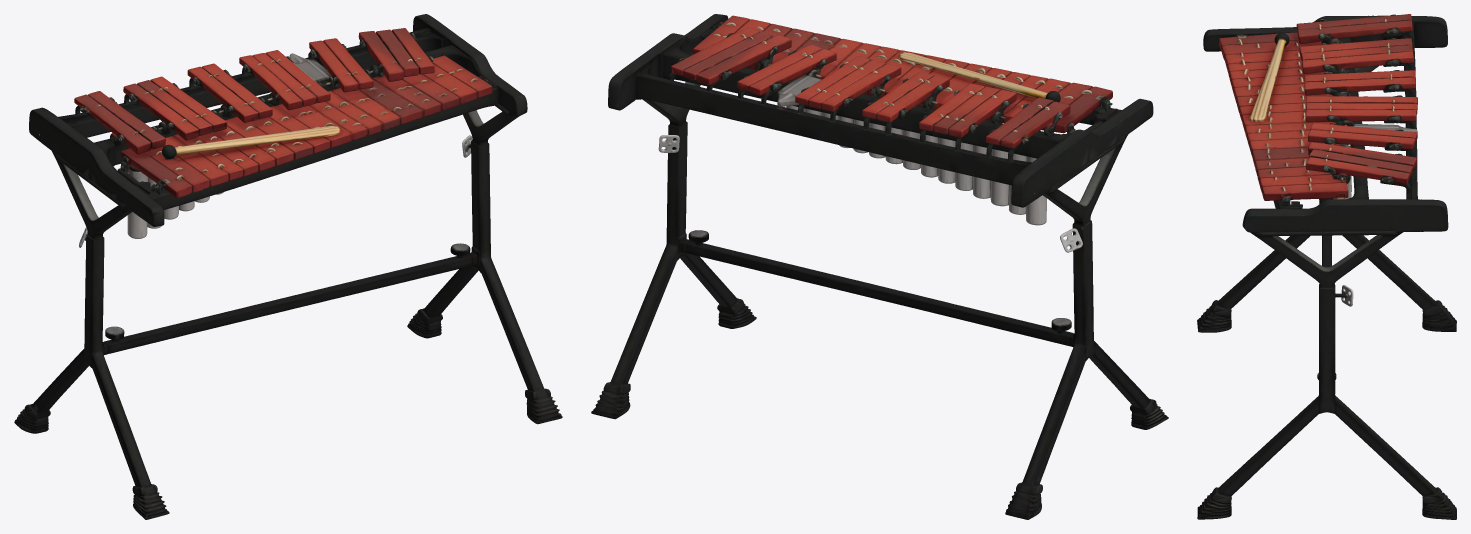
Rendered from xilofone.glb.
The picture shows the model from 3 angles, left to right: view 1: azimuth 30°, elevation 25°; view 2: azimuth 150°, elevation 25°; view 3: azimuth 270°, elevation 25°; orthographic projection. The views are drawn at different scales.
Visible parts, largest first — view 1: tripo_node_fb825a23-5b06-4ec7-b9d7-f62c49171eb6; view 2: tripo_node_fb825a23-5b06-4ec7-b9d7-f62c49171eb6; view 3: tripo_node_fb825a23-5b06-4ec7-b9d7-f62c49171eb6.
Boxes of the visible parts, x1,y1,x2,y2 form: tripo_node_fb825a23-5b06-4ec7-b9d7-f62c49171eb6: [14, 14, 562, 519]; tripo_node_fb825a23-5b06-4ec7-b9d7-f62c49171eb6: [591, 14, 1168, 519]; tripo_node_fb825a23-5b06-4ec7-b9d7-f62c49171eb6: [1197, 14, 1456, 519].
Size of the model in its own units: 0.9802 by 0.7484 by 0.5398.
Materials: 1 (1 with a texture image).
